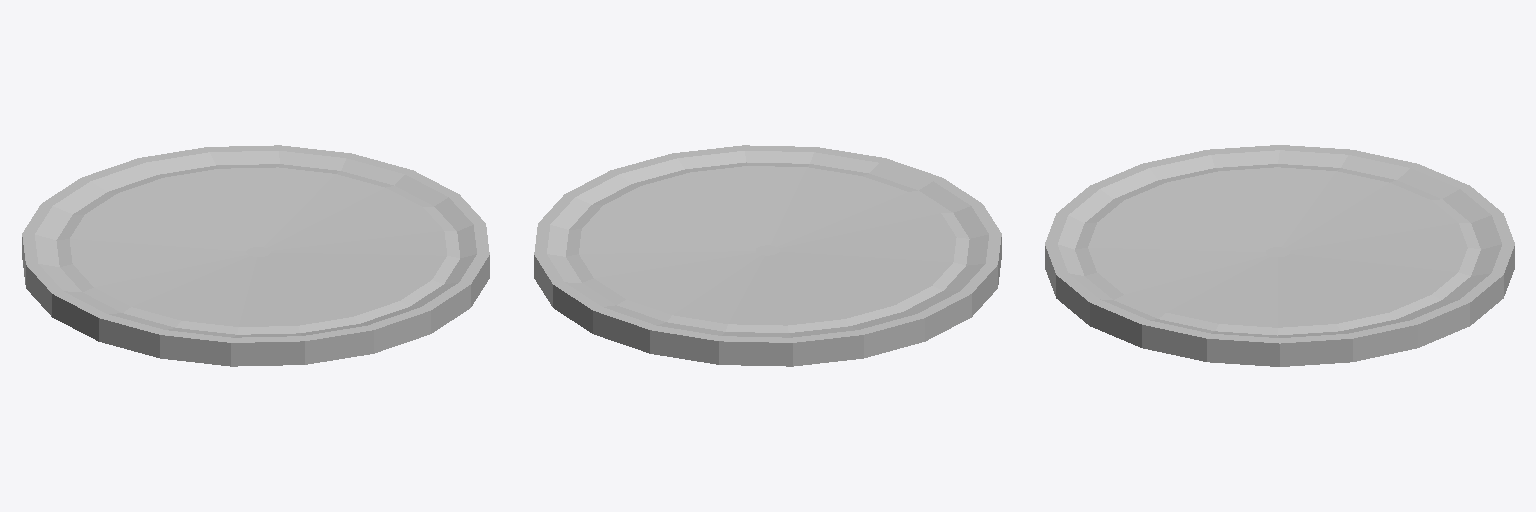
File: Pizza.obj
3 renders of one model, left to right at view 1: azimuth 30°, elevation 25°; view 2: azimuth 150°, elevation 25°; view 3: azimuth 270°, elevation 25°, orthographic.
Parts seen in each view (by area): view 1: Cylinder; view 2: Cylinder; view 3: Cylinder.
Part boxes in pixels (left/top/right/bottom): Cylinder: left=22, top=145, right=489, bottom=366; Cylinder: left=534, top=145, right=1001, bottom=366; Cylinder: left=1045, top=145, right=1514, bottom=366.
Size of the model in its own units: 0.74 by 0.041 by 0.74.